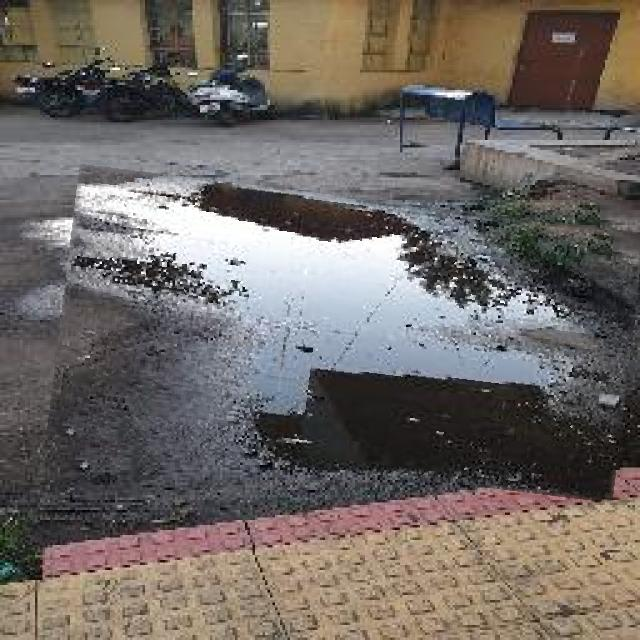puddle: (55, 182, 639, 488)
